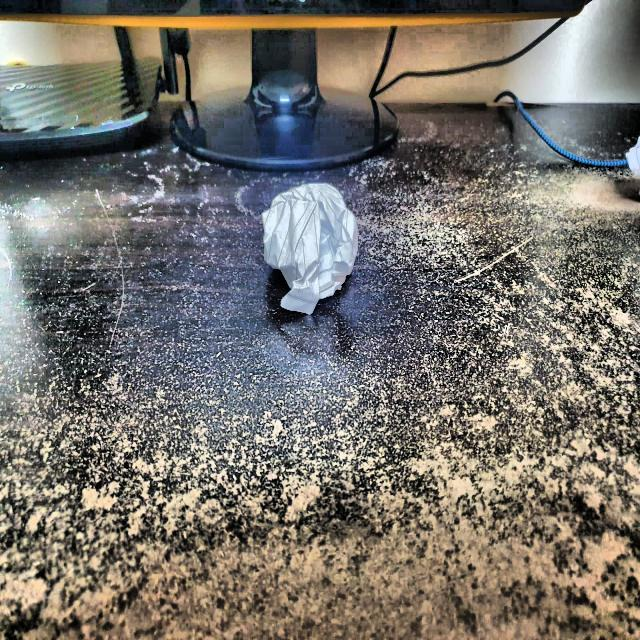Paper: (259, 179, 364, 318)
